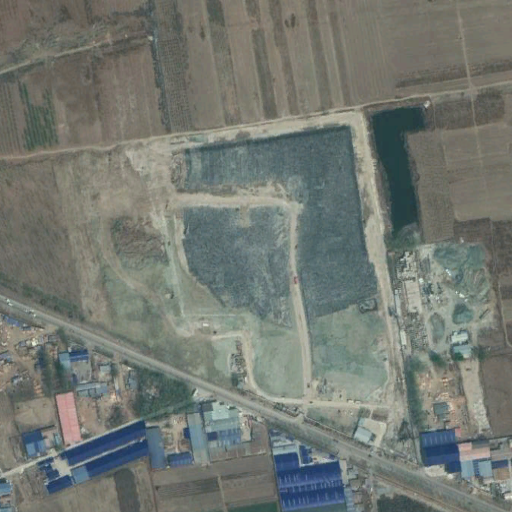lf: (172, 128, 380, 322)
